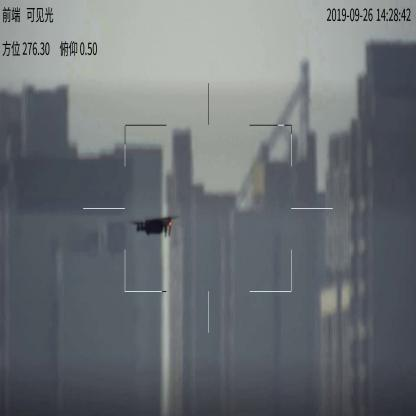uav: (124, 215, 178, 236)
